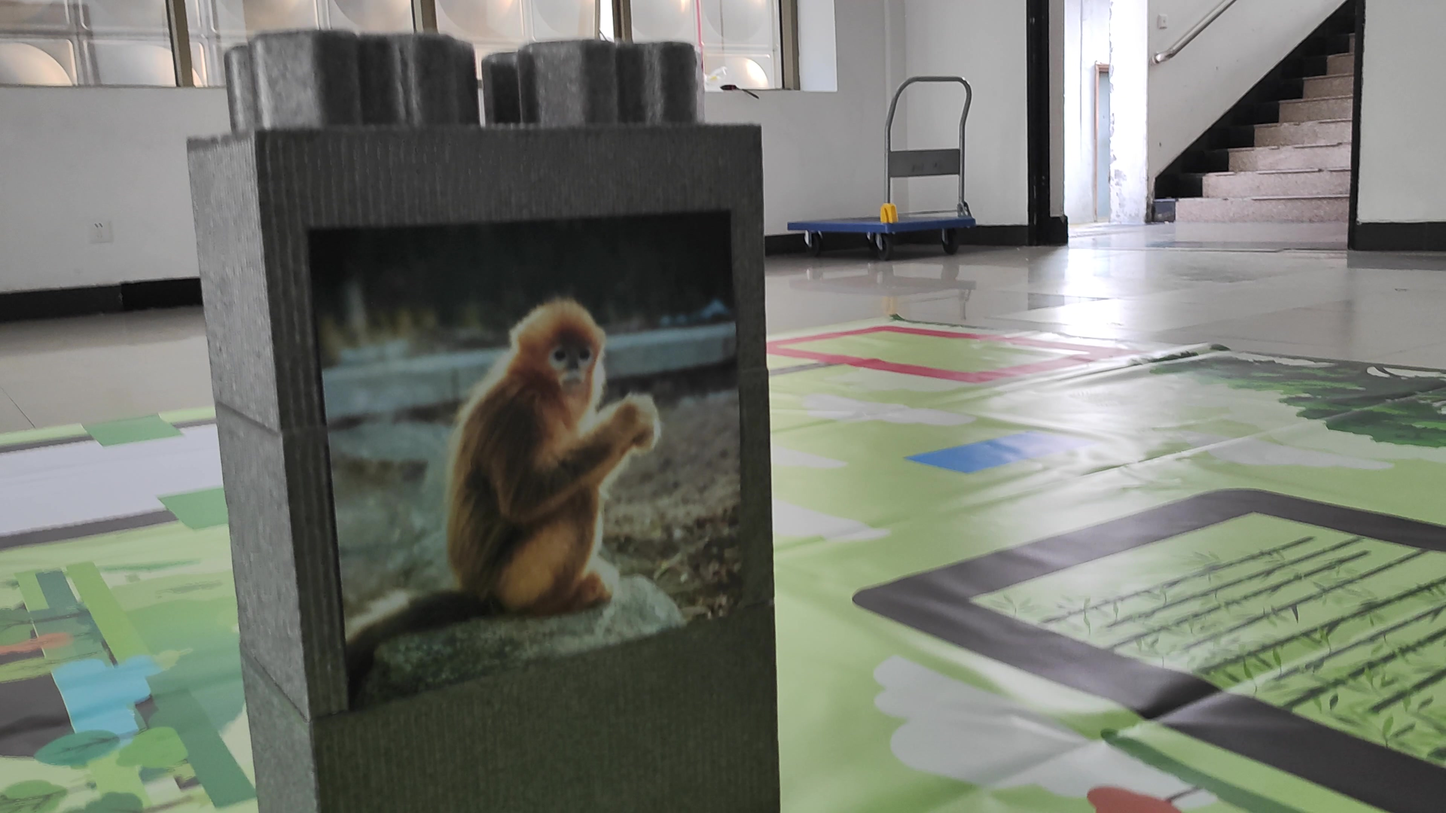monkey: (378, 266, 723, 616)
